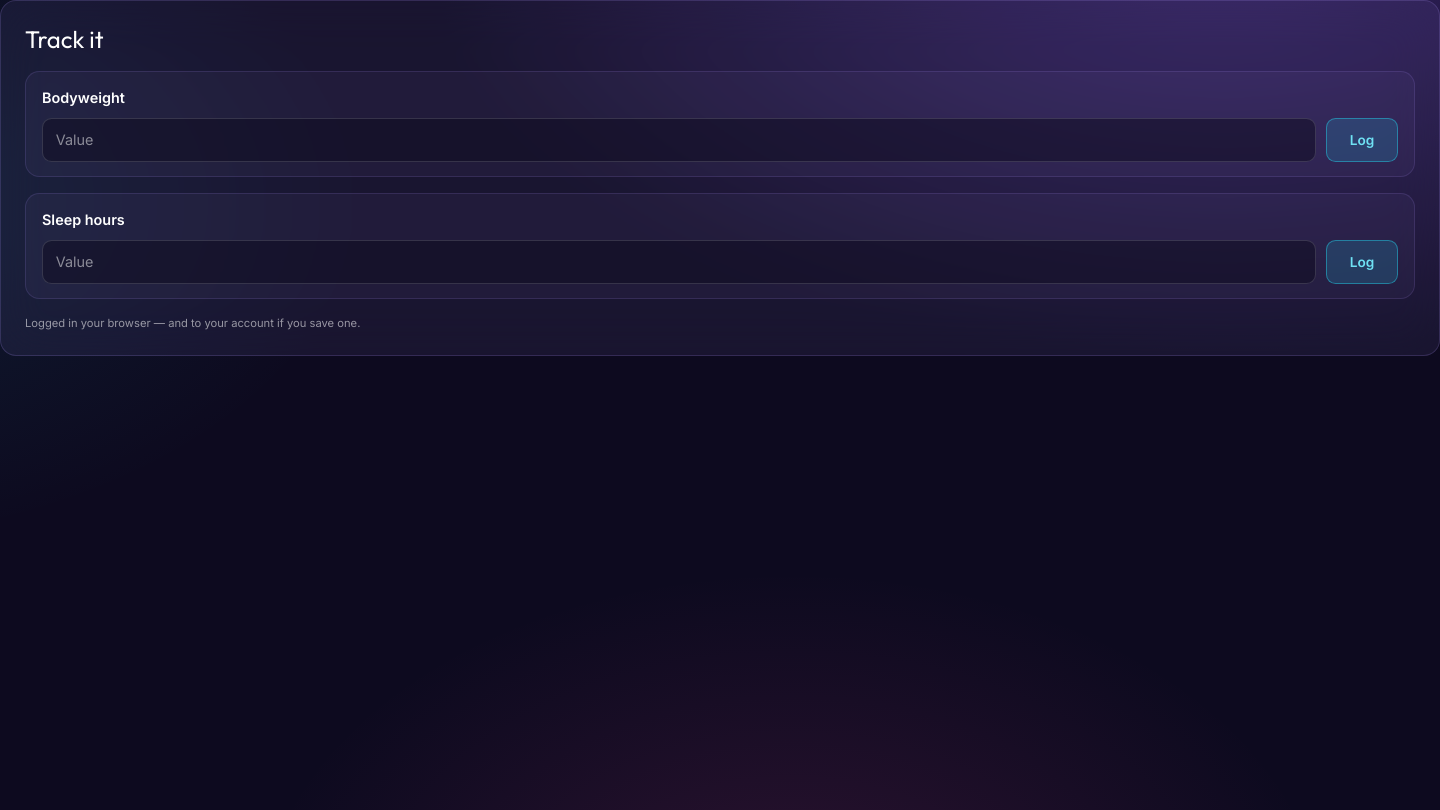
MetricTracker › clear empties the entries after confirm
The width and height of the screenshot is (1440, 810).
Type "72" into the number field with placeholder "Value" below "Bodyweight" at (679, 140), box [42,118,1316,162]
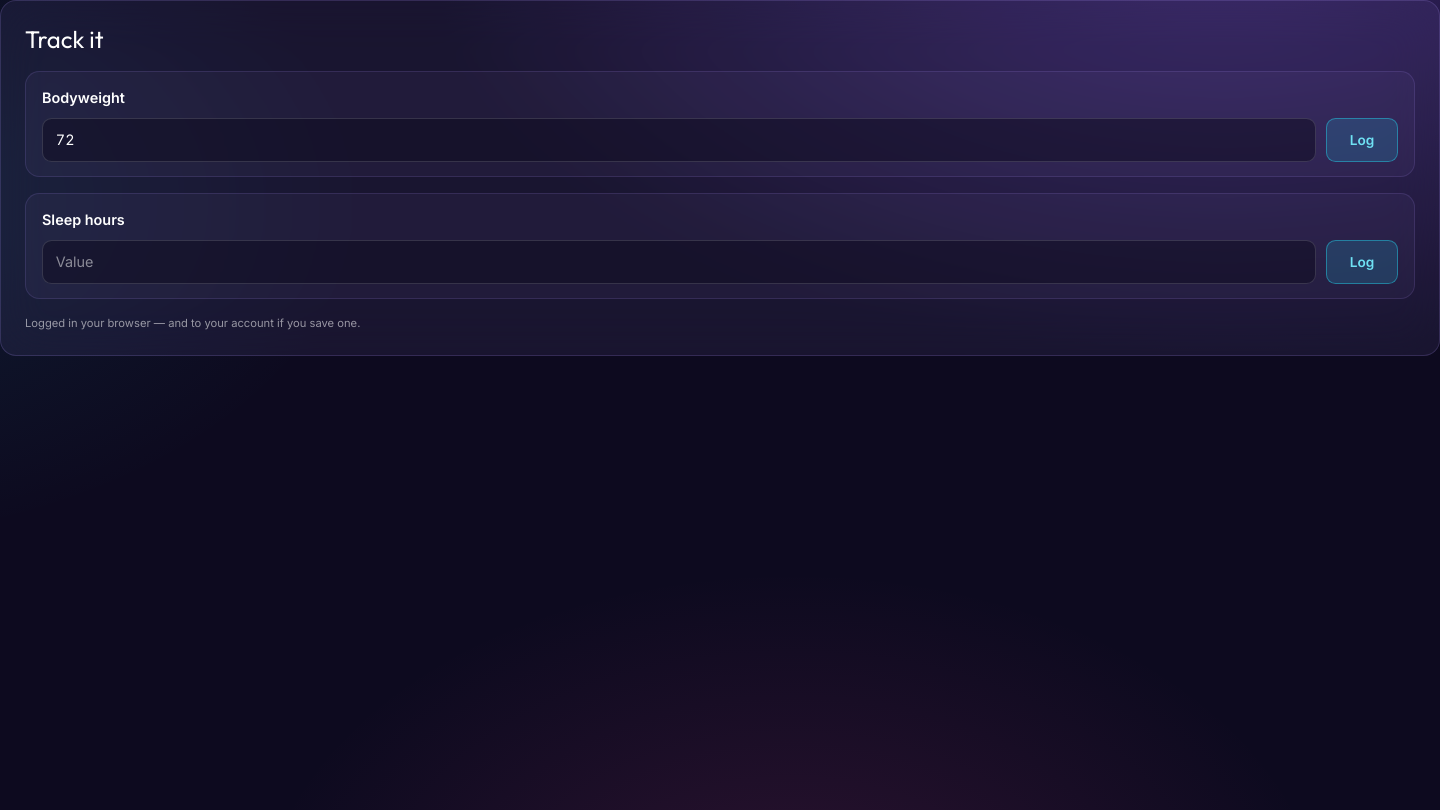
Click the 1st button "Log" at (1362, 140), box [1326,118,1398,162]
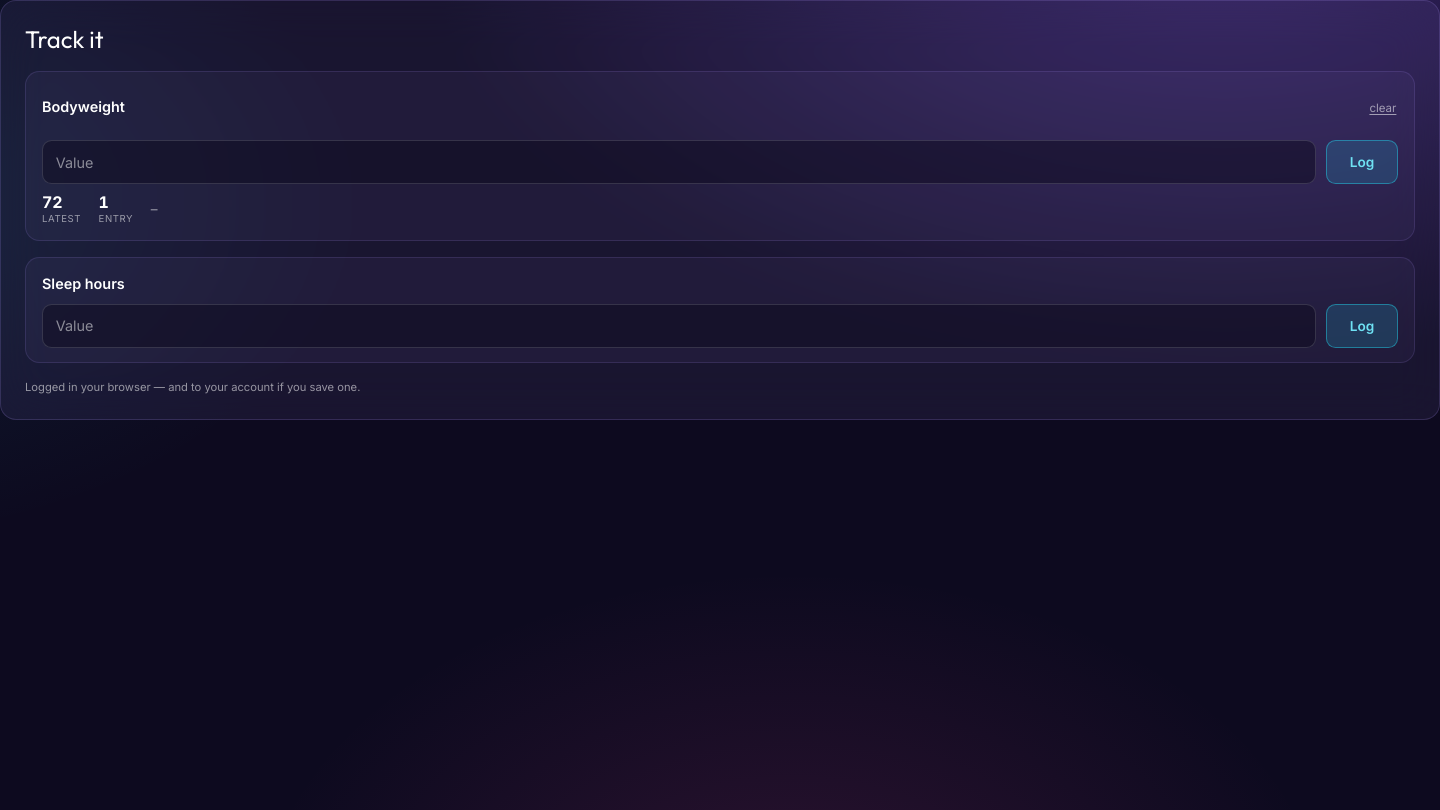
Click the button "clear" at (1383, 109), box [1368,87,1398,131]
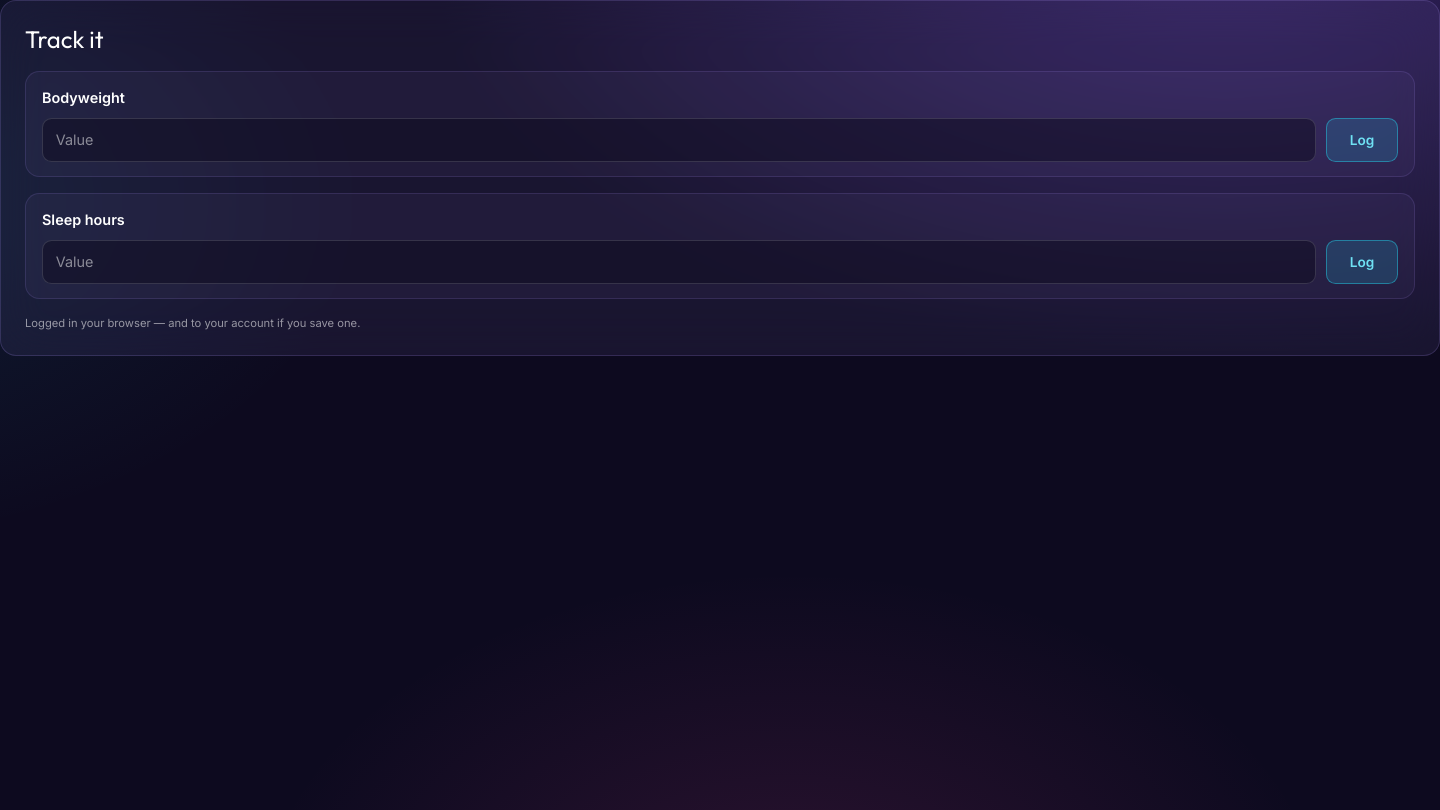
Check: the button "clear" is gone
